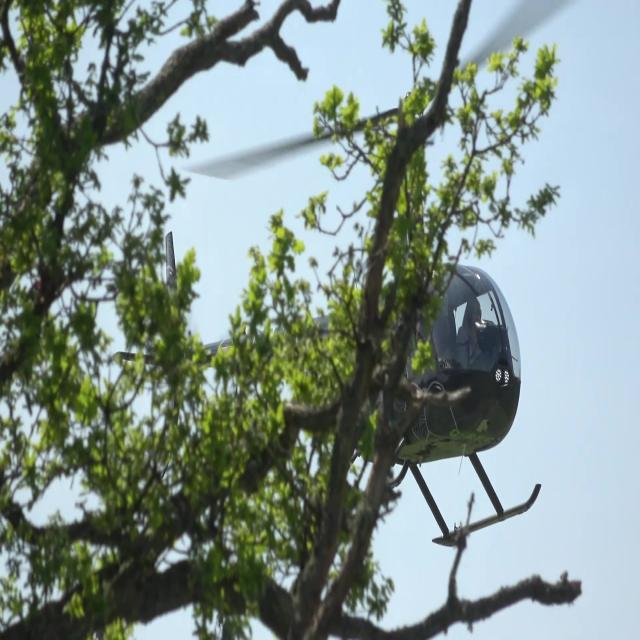CIV_HELO: (108, 88, 542, 550)
